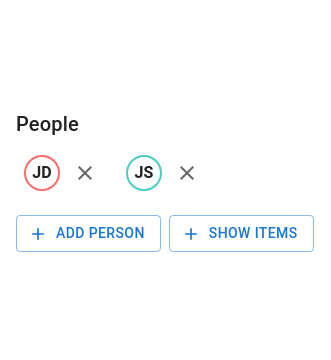
Test: UserAssignment › shows items when "Show Items" button is clicked
Click the button "Show Items".
click(241, 234)  # box left=169, top=215, right=314, bottom=252
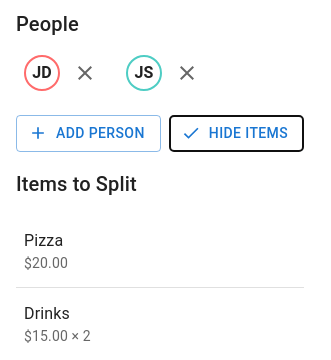
expect the heading "Items to Split" is shown: met, box left=16, top=172, right=137, bottom=196
expect the text "Pizza" is shown: met, box left=24, top=231, right=63, bottom=250
expect the text "Drinks" is shown: met, box left=24, top=304, right=70, bottom=323
